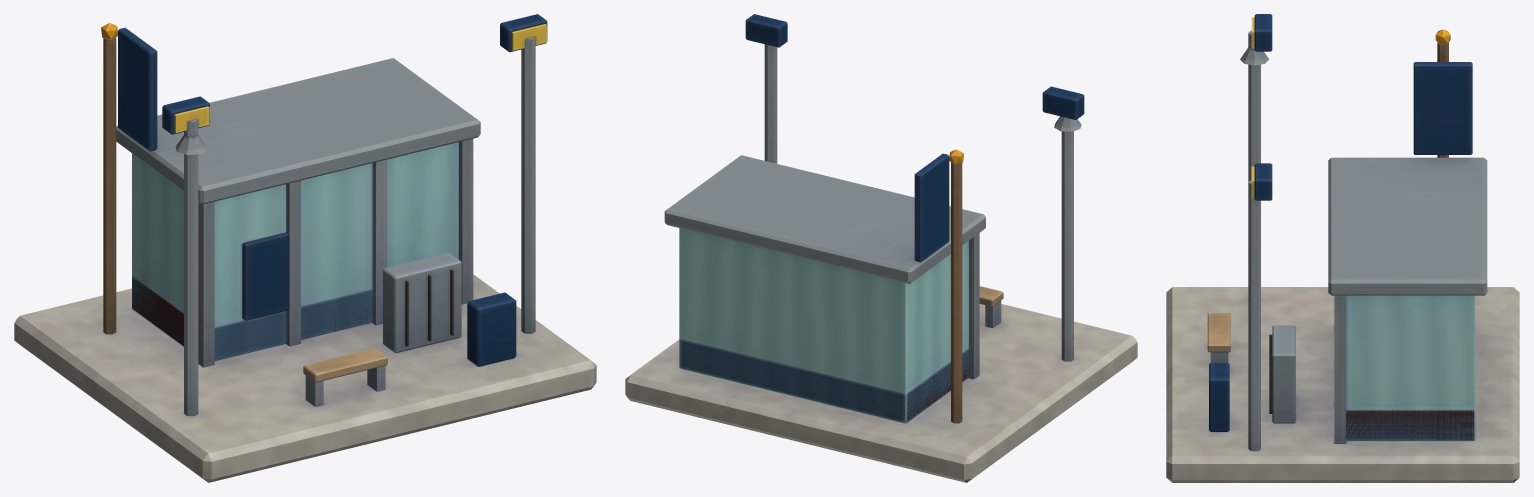
File: barracks-20.glb
The picture shows the model from 3 angles, left to right: view 1: azimuth 30°, elevation 25°; view 2: azimuth 150°, elevation 25°; view 3: azimuth 270°, elevation 25°; orthographic projection. The views are drawn at different scales.
Visible parts, largest first — view 1: barracks-20; view 2: barracks-20; view 3: barracks-20.
Boxes of the visible parts, bbox=[...] form: barracks-20: bbox=[14, 14, 596, 482]; barracks-20: bbox=[625, 14, 1137, 482]; barracks-20: bbox=[1166, 14, 1519, 482].
Bounding box in the file's own units: 1.4 × 1.15 × 1.2.
Materials: 1 (1 with a texture image).
